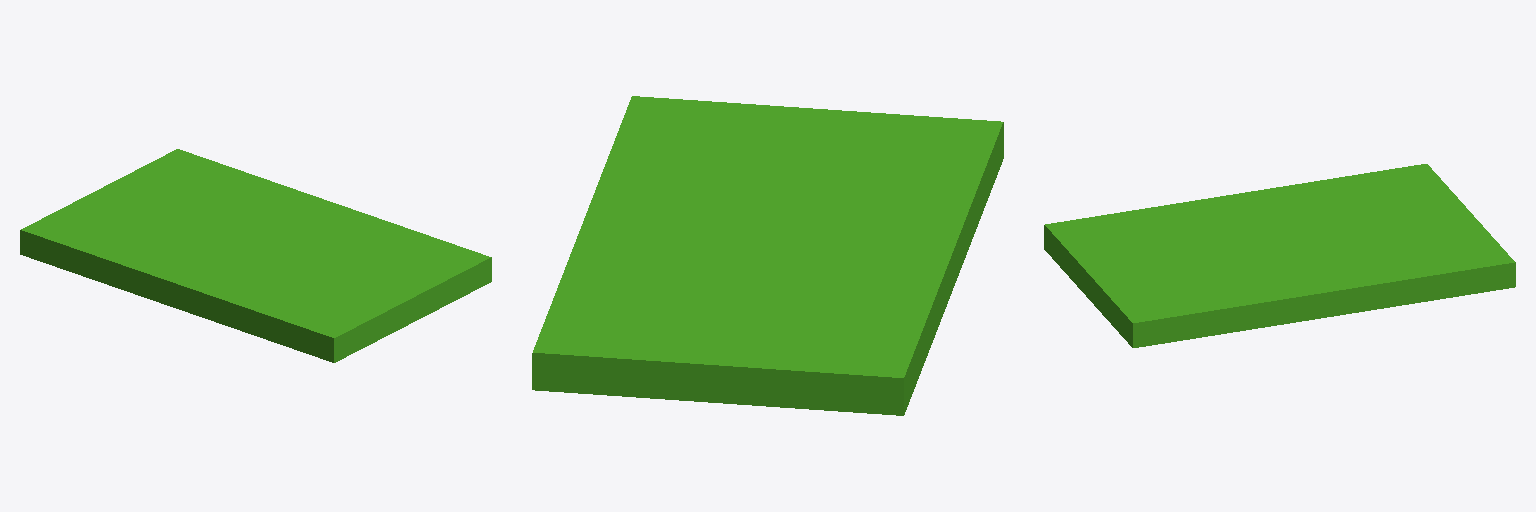
robot.urdf — Interference:
<?xml version="1.0"?>
<robot name="Interference">
  <link name="baseLink">
    <inertial>
      <origin xyz="0.0 0.0 0.0" rpy="0.0 0.0 0.0"/>
      <inertia ixx="0.0" ixy="0.0" ixz="0.0" iyy="0.0" iyz="0.0" izz="0.0"/>
      <mass value="0"/>
    </inertial>
    <visual>
      <origin xyz="0.0 0.0 0.0" rpy="0.0 0.0 -1.2095026276657324"/>
      <geometry>
        <box size="0.14786143949417094 0.09046738557887636 0.01"/>
      </geometry>
      <material name="color">
        <color rgba="0.3603194046810452 0.7209368610446535 0.20108892794618605 1.0"/>
      </material>
    </visual>
  </link>
</robot>

--- What the picture shows (computed from the rendered views, not written in the file) ---
Views: 3 orthographic renders of the robot side by side, from view 1: azimuth 30°, elevation 25°; view 2: azimuth 150°, elevation 25°; view 3: azimuth 270°, elevation 25°.
Model Interference with 1 links and 0 joints (none), rooted at baseLink, posed every joint at zero.
Visible links, largest first — view 1: baseLink; view 2: baseLink; view 3: baseLink.
Link boxes in pixels (left/top/right/bottom): baseLink: left=20, top=149, right=491, bottom=362; baseLink: left=532, top=96, right=1003, bottom=415; baseLink: left=1044, top=164, right=1515, bottom=347.
Size in the robot's own frame: 0.1369 by 0.1703 by 0.01 metres.
Geometry: primitives only (box / cylinder / sphere), no mesh files.